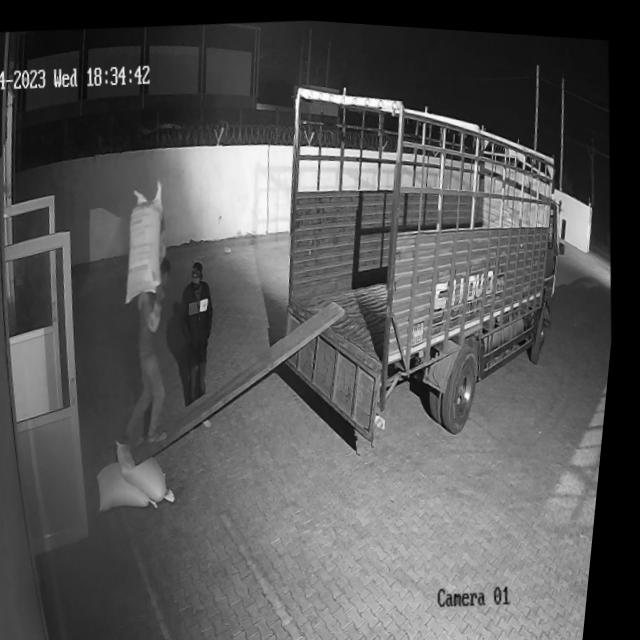sack: (119, 177, 178, 304), (118, 432, 189, 504), (102, 455, 171, 512)
